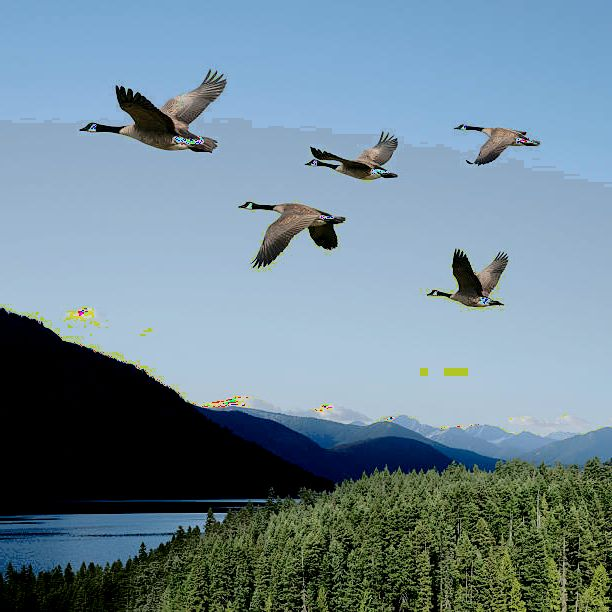Bird: (73, 63, 229, 158), (231, 196, 349, 273), (419, 240, 512, 314), (297, 124, 402, 186), (452, 115, 540, 169)
